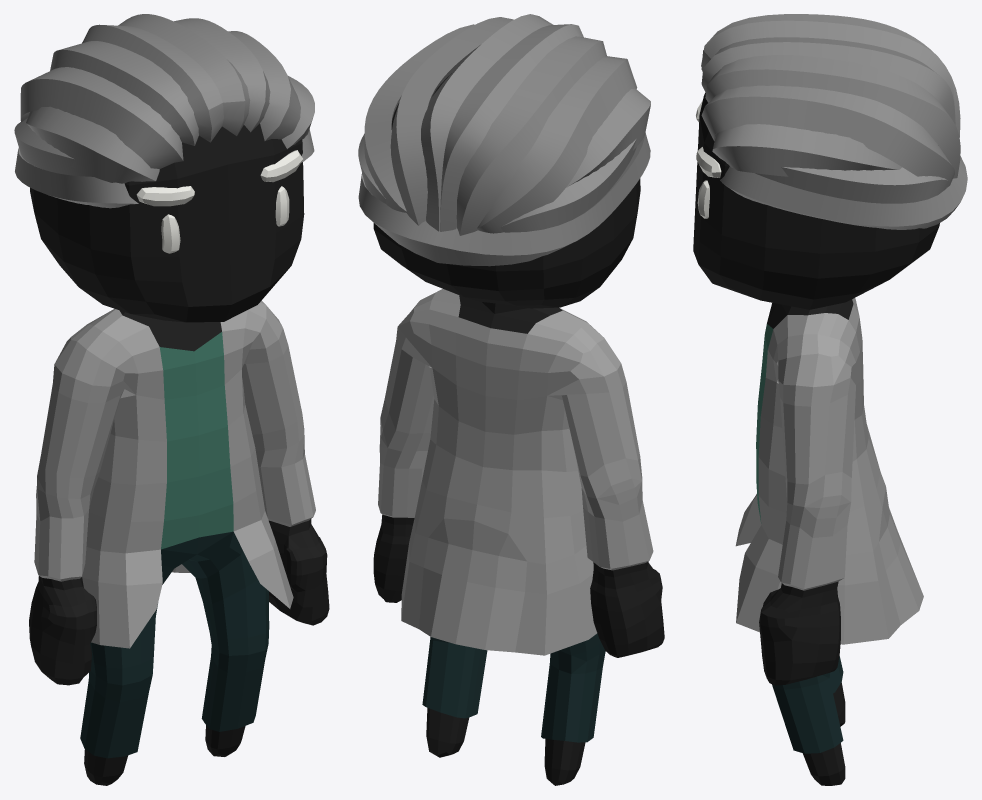
File: doctor-male-old-d8d6b08834.glb
The picture shows the model from 3 angles, left to right: view 1: azimuth 30°, elevation 25°; view 2: azimuth 150°, elevation 25°; view 3: azimuth 270°, elevation 25°; orthographic projection. The views are drawn at different scales.
Parts seen in each view (by area): view 1: Doctor_Male_Old.obj; view 2: Doctor_Male_Old.obj; view 3: Doctor_Male_Old.obj.
Boxes of the visible parts, <box> form: Doctor_Male_Old.obj: <box>14,14,329,785</box>; Doctor_Male_Old.obj: <box>358,14,664,785</box>; Doctor_Male_Old.obj: <box>693,14,967,785</box>.
Size of the model in its own units: 1.29 by 3.17 by 1.09.
